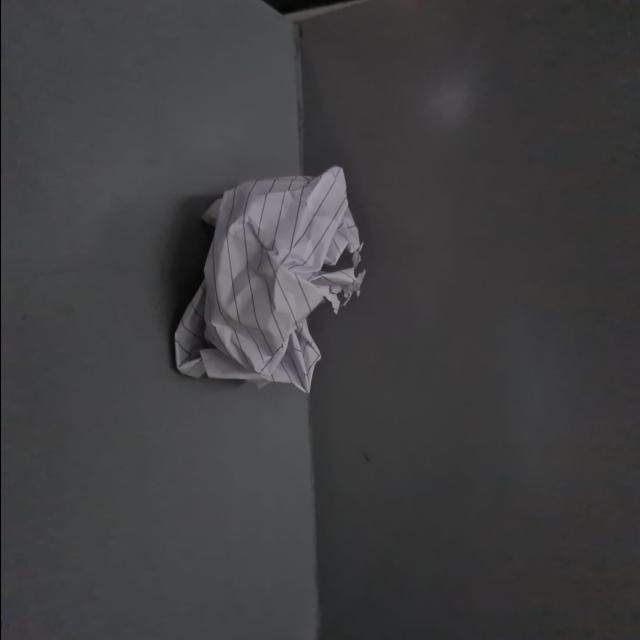kertas: (167, 160, 366, 404)
